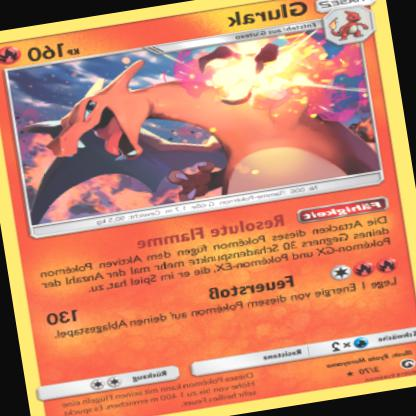Squirtle: (36, 29, 361, 221)
